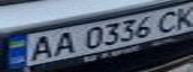0: (78, 24, 106, 51)
3: (118, 17, 142, 43), (103, 20, 124, 46)
6: (133, 14, 160, 39)
A: (18, 34, 60, 62), (45, 29, 81, 56)
C: (151, 8, 187, 34)
K: (169, 3, 193, 30)
